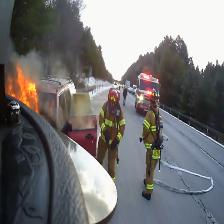fire: (4, 63, 40, 116)
